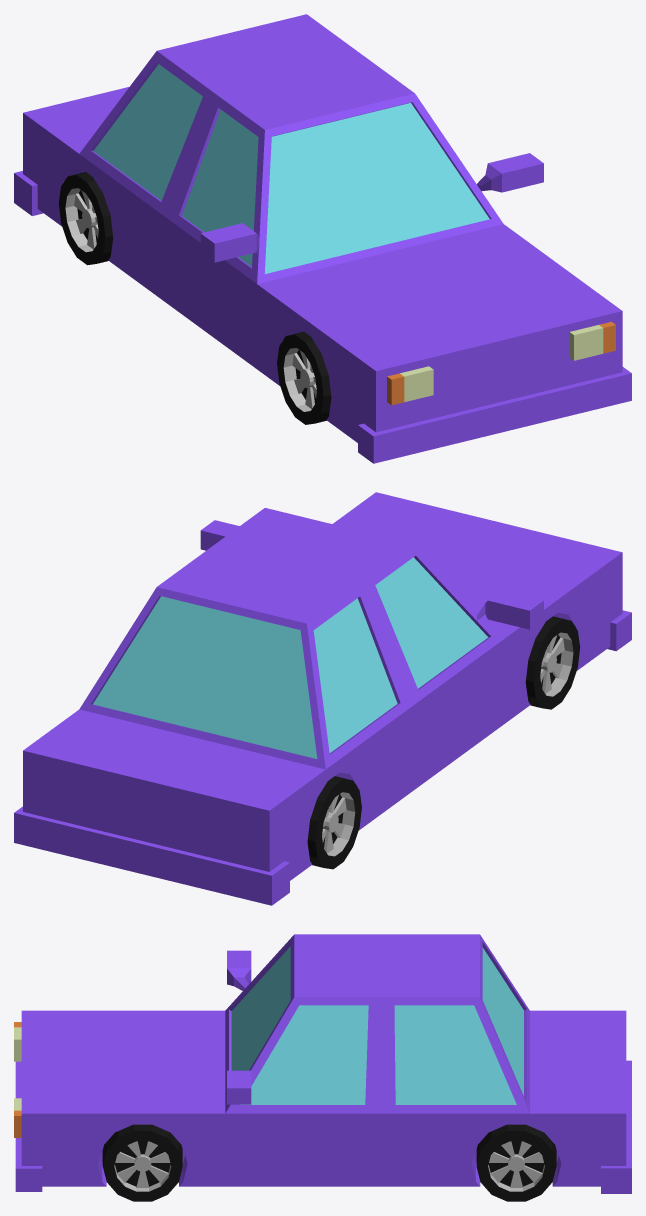
Rendered from lilac car.fbx.
3 renders of one model, top to bottom at view 1: azimuth 30°, elevation 25°; view 2: azimuth 150°, elevation 25°; view 3: azimuth 270°, elevation 25°, orthographic. The views are drawn at different scales.
Visible parts, largest first — view 1: Cube, Cylinder.001, Cylinder.003, Cube.002, Cube.001; view 2: Cube, Cylinder.001, Cylinder.003, Cube.002; view 3: Cube, Cylinder.003, Cylinder.001, Cube.002, Cube.001.
Boxes of the visible parts, bbox=[...] form: Cube: bbox=[14, 14, 631, 463]; Cylinder.001: bbox=[277, 332, 331, 424]; Cylinder.003: bbox=[58, 172, 113, 265]; Cube.002: bbox=[200, 153, 543, 262]; Cube.001: bbox=[387, 321, 615, 405]; Cube: bbox=[14, 492, 631, 905]; Cylinder.001: bbox=[525, 616, 580, 709]; Cylinder.003: bbox=[307, 776, 361, 869]; Cube.002: bbox=[200, 520, 543, 629]; Cube: bbox=[15, 934, 631, 1193]; Cylinder.003: bbox=[476, 1124, 556, 1201]; Cylinder.001: bbox=[102, 1124, 182, 1201]; Cube.002: bbox=[227, 950, 251, 1104]; Cube.001: bbox=[14, 1022, 21, 1137].
Size of the model in its own units: 341 by 211 by 647.
